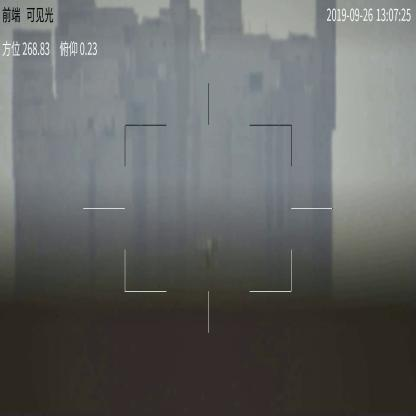uav: (191, 235, 223, 270)
